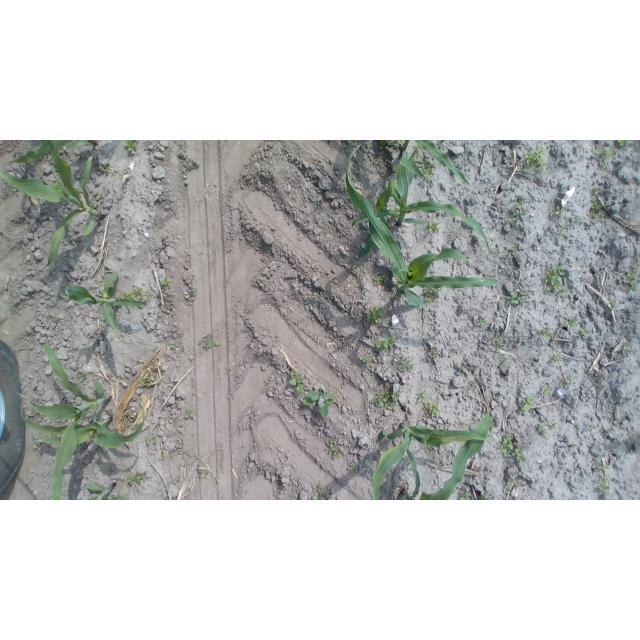Maize: (345, 144, 502, 309), (352, 148, 493, 263), (19, 344, 118, 501), (1, 142, 105, 270), (372, 420, 489, 500), (404, 412, 493, 500), (19, 408, 147, 450), (65, 272, 146, 337), (398, 141, 470, 186), (8, 141, 99, 164), (86, 481, 131, 500)
Weeds: (302, 384, 337, 420), (525, 145, 550, 172), (491, 331, 524, 351), (369, 390, 400, 410), (544, 265, 567, 291), (198, 333, 220, 355), (590, 199, 611, 222), (511, 442, 529, 467), (498, 434, 515, 460), (289, 367, 305, 393), (326, 435, 343, 459), (123, 286, 151, 300), (623, 269, 639, 293), (366, 304, 385, 324), (507, 290, 530, 306), (416, 158, 433, 179), (530, 325, 555, 339), (375, 336, 395, 353), (597, 146, 615, 164), (425, 401, 444, 418), (128, 470, 148, 485), (595, 474, 609, 495), (401, 357, 416, 374), (523, 394, 536, 412), (604, 298, 620, 312), (415, 389, 431, 403), (561, 317, 579, 329), (184, 287, 198, 302), (379, 140, 402, 149), (166, 338, 183, 350), (557, 223, 568, 241), (372, 272, 386, 285), (540, 383, 553, 396), (428, 220, 440, 234), (123, 140, 137, 152), (504, 244, 520, 254), (536, 424, 548, 437), (160, 277, 172, 290), (139, 376, 153, 387), (97, 163, 111, 174), (562, 373, 574, 385), (476, 316, 488, 328), (311, 492, 329, 500), (427, 349, 440, 360), (521, 207, 532, 219), (361, 355, 373, 366), (459, 489, 471, 500), (516, 198, 529, 208), (457, 364, 471, 373), (623, 342, 634, 353), (580, 328, 592, 338), (556, 206, 565, 219), (312, 483, 325, 492), (560, 286, 570, 297), (547, 419, 557, 430), (432, 288, 444, 297), (551, 353, 561, 363), (198, 469, 208, 479), (186, 409, 195, 420), (508, 475, 516, 487), (618, 141, 631, 148), (588, 422, 598, 431), (508, 213, 516, 224), (415, 144, 426, 152), (425, 294, 434, 303), (461, 420, 469, 430), (94, 191, 102, 201), (599, 463, 609, 471), (572, 215, 581, 223), (52, 316, 60, 324), (607, 428, 614, 437), (505, 486, 512, 495), (423, 287, 431, 294), (349, 463, 356, 471), (481, 492, 488, 500), (145, 437, 151, 446), (79, 373, 86, 380), (152, 438, 158, 445), (570, 443, 577, 449), (593, 186, 599, 192), (226, 368, 232, 374), (59, 148, 65, 154), (486, 297, 493, 302), (180, 346, 185, 353), (125, 412, 132, 416), (354, 141, 359, 146), (198, 462, 204, 466), (129, 418, 135, 422), (118, 486, 122, 491), (504, 140, 508, 144), (147, 201, 152, 204)
